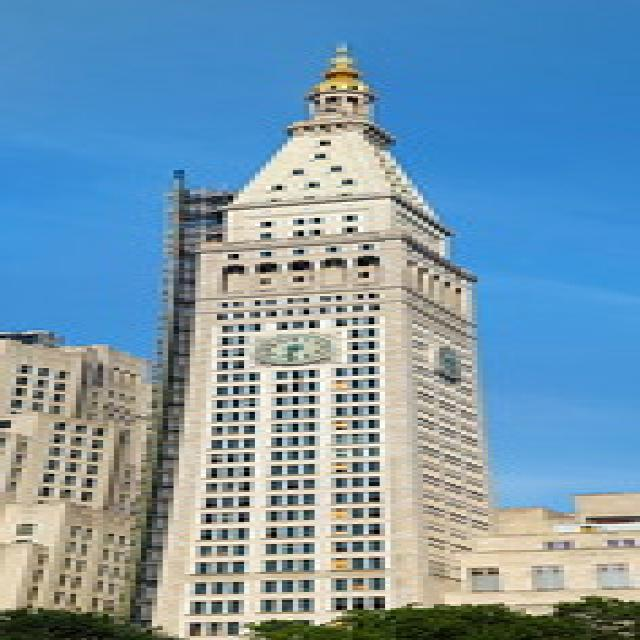Normal_building: (136, 112, 499, 636)
